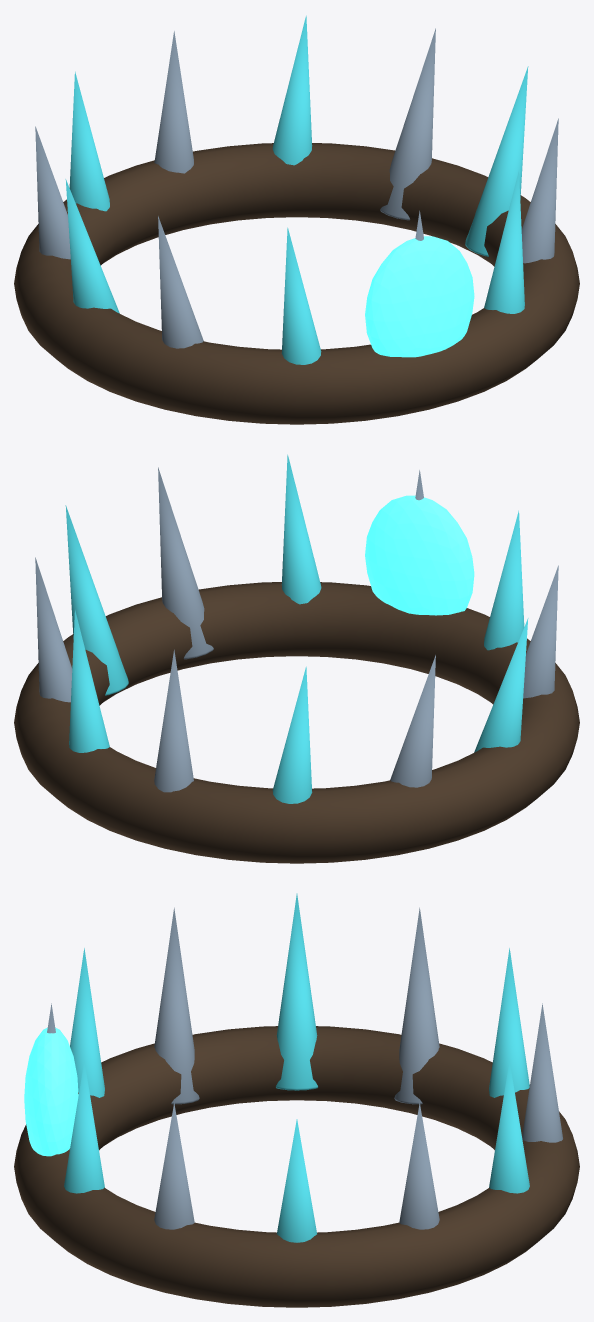
File: crown_v7.glb
3 views of the same model, one above another, from view 1: azimuth 30°, elevation 25°; view 2: azimuth 150°, elevation 25°; view 3: azimuth 270°, elevation 25° (orthographic).
Parts seen in each view (by area): view 1: THORN_CROWN_SECONDARY, THORN_HEART_EMISSIVE, CROWN_THORN_PRIMARY, CROWN_THORN_ACCENT, CROWN_THORN_ACCENT.001, CROWN_THORN_ACCENT.005, CROWN_THORN_PRIMARY.001, CROWN_THORN_PRIMARY.005, CROWN_THORN_ACCENT.004, CROWN_THORN_ACCENT.002, CROWN_THORN_ACCENT.003, CROWN_THORN_PRIMARY.003 (+1 smaller); view 2: THORN_CROWN_SECONDARY, THORN_HEART_EMISSIVE, CROWN_THORN_PRIMARY.005, CROWN_THORN_ACCENT, CROWN_THORN_ACCENT.005, CROWN_THORN_ACCENT.001, CROWN_THORN_PRIMARY.001, CROWN_THORN_PRIMARY, CROWN_THORN_ACCENT.002, CROWN_THORN_ACCENT.004, CROWN_THORN_ACCENT.003, CROWN_THORN_PRIMARY.002 (+1 smaller); view 3: THORN_CROWN_SECONDARY, THORN_HEART_EMISSIVE, CROWN_THORN_ACCENT.003, CROWN_THORN_PRIMARY.002, CROWN_THORN_PRIMARY.003, CROWN_THORN_ACCENT.002, CROWN_THORN_PRIMARY.001, CROWN_THORN_ACCENT.001, CROWN_THORN_ACCENT.005, CROWN_THORN_PRIMARY, CROWN_THORN_PRIMARY.005, CROWN_THORN_ACCENT.004 (+1 smaller).
Part boxes in pixels (x1,y1,x2,y2): THORN_CROWN_SECONDARY: (14, 143, 579, 424); THORN_HEART_EMISSIVE: (365, 236, 474, 357); CROWN_THORN_PRIMARY: (380, 28, 435, 220); CROWN_THORN_ACCENT: (465, 66, 528, 256); CROWN_THORN_ACCENT.001: (272, 15, 312, 165); CROWN_THORN_ACCENT.005: (484, 171, 524, 313); CROWN_THORN_PRIMARY.001: (154, 31, 193, 173); CROWN_THORN_PRIMARY.005: (521, 118, 558, 263); CROWN_THORN_ACCENT.004: (281, 227, 321, 364); CROWN_THORN_ACCENT.002: (69, 71, 109, 211); CROWN_THORN_ACCENT.003: (65, 179, 119, 313); CROWN_THORN_PRIMARY.003: (158, 216, 203, 348); THORN_CROWN_SECONDARY: (14, 582, 579, 863); THORN_HEART_EMISSIVE: (365, 495, 474, 615); CROWN_THORN_PRIMARY.005: (158, 467, 213, 659); CROWN_THORN_ACCENT: (65, 505, 128, 695); CROWN_THORN_ACCENT.005: (281, 454, 321, 604); CROWN_THORN_ACCENT.001: (69, 610, 109, 752); CROWN_THORN_PRIMARY.001: (154, 649, 193, 792); CROWN_THORN_PRIMARY: (35, 557, 72, 702); CROWN_THORN_ACCENT.002: (272, 666, 312, 803); CROWN_THORN_ACCENT.004: (484, 510, 524, 650); CROWN_THORN_ACCENT.003: (474, 618, 528, 752); CROWN_THORN_PRIMARY.002: (390, 655, 435, 787); THORN_CROWN_SECONDARY: (14, 1026, 579, 1307); THORN_HEART_EMISSIVE: (24, 1027, 78, 1156); CROWN_THORN_ACCENT.003: (276, 893, 317, 1090); CROWN_THORN_PRIMARY.002: (394, 907, 439, 1104); CROWN_THORN_PRIMARY.003: (154, 907, 199, 1104); CROWN_THORN_ACCENT.002: (489, 948, 529, 1097); CROWN_THORN_PRIMARY.001: (522, 1003, 562, 1142); CROWN_THORN_ACCENT.001: (489, 1061, 529, 1193); CROWN_THORN_ACCENT.005: (64, 1061, 104, 1193); CROWN_THORN_PRIMARY: (399, 1103, 439, 1229); CROWN_THORN_PRIMARY.005: (154, 1103, 194, 1229); CROWN_THORN_ACCENT.004: (70, 948, 104, 1097).
Bounding box in the file's own units: 1.66 × 0.64 × 1.66.
